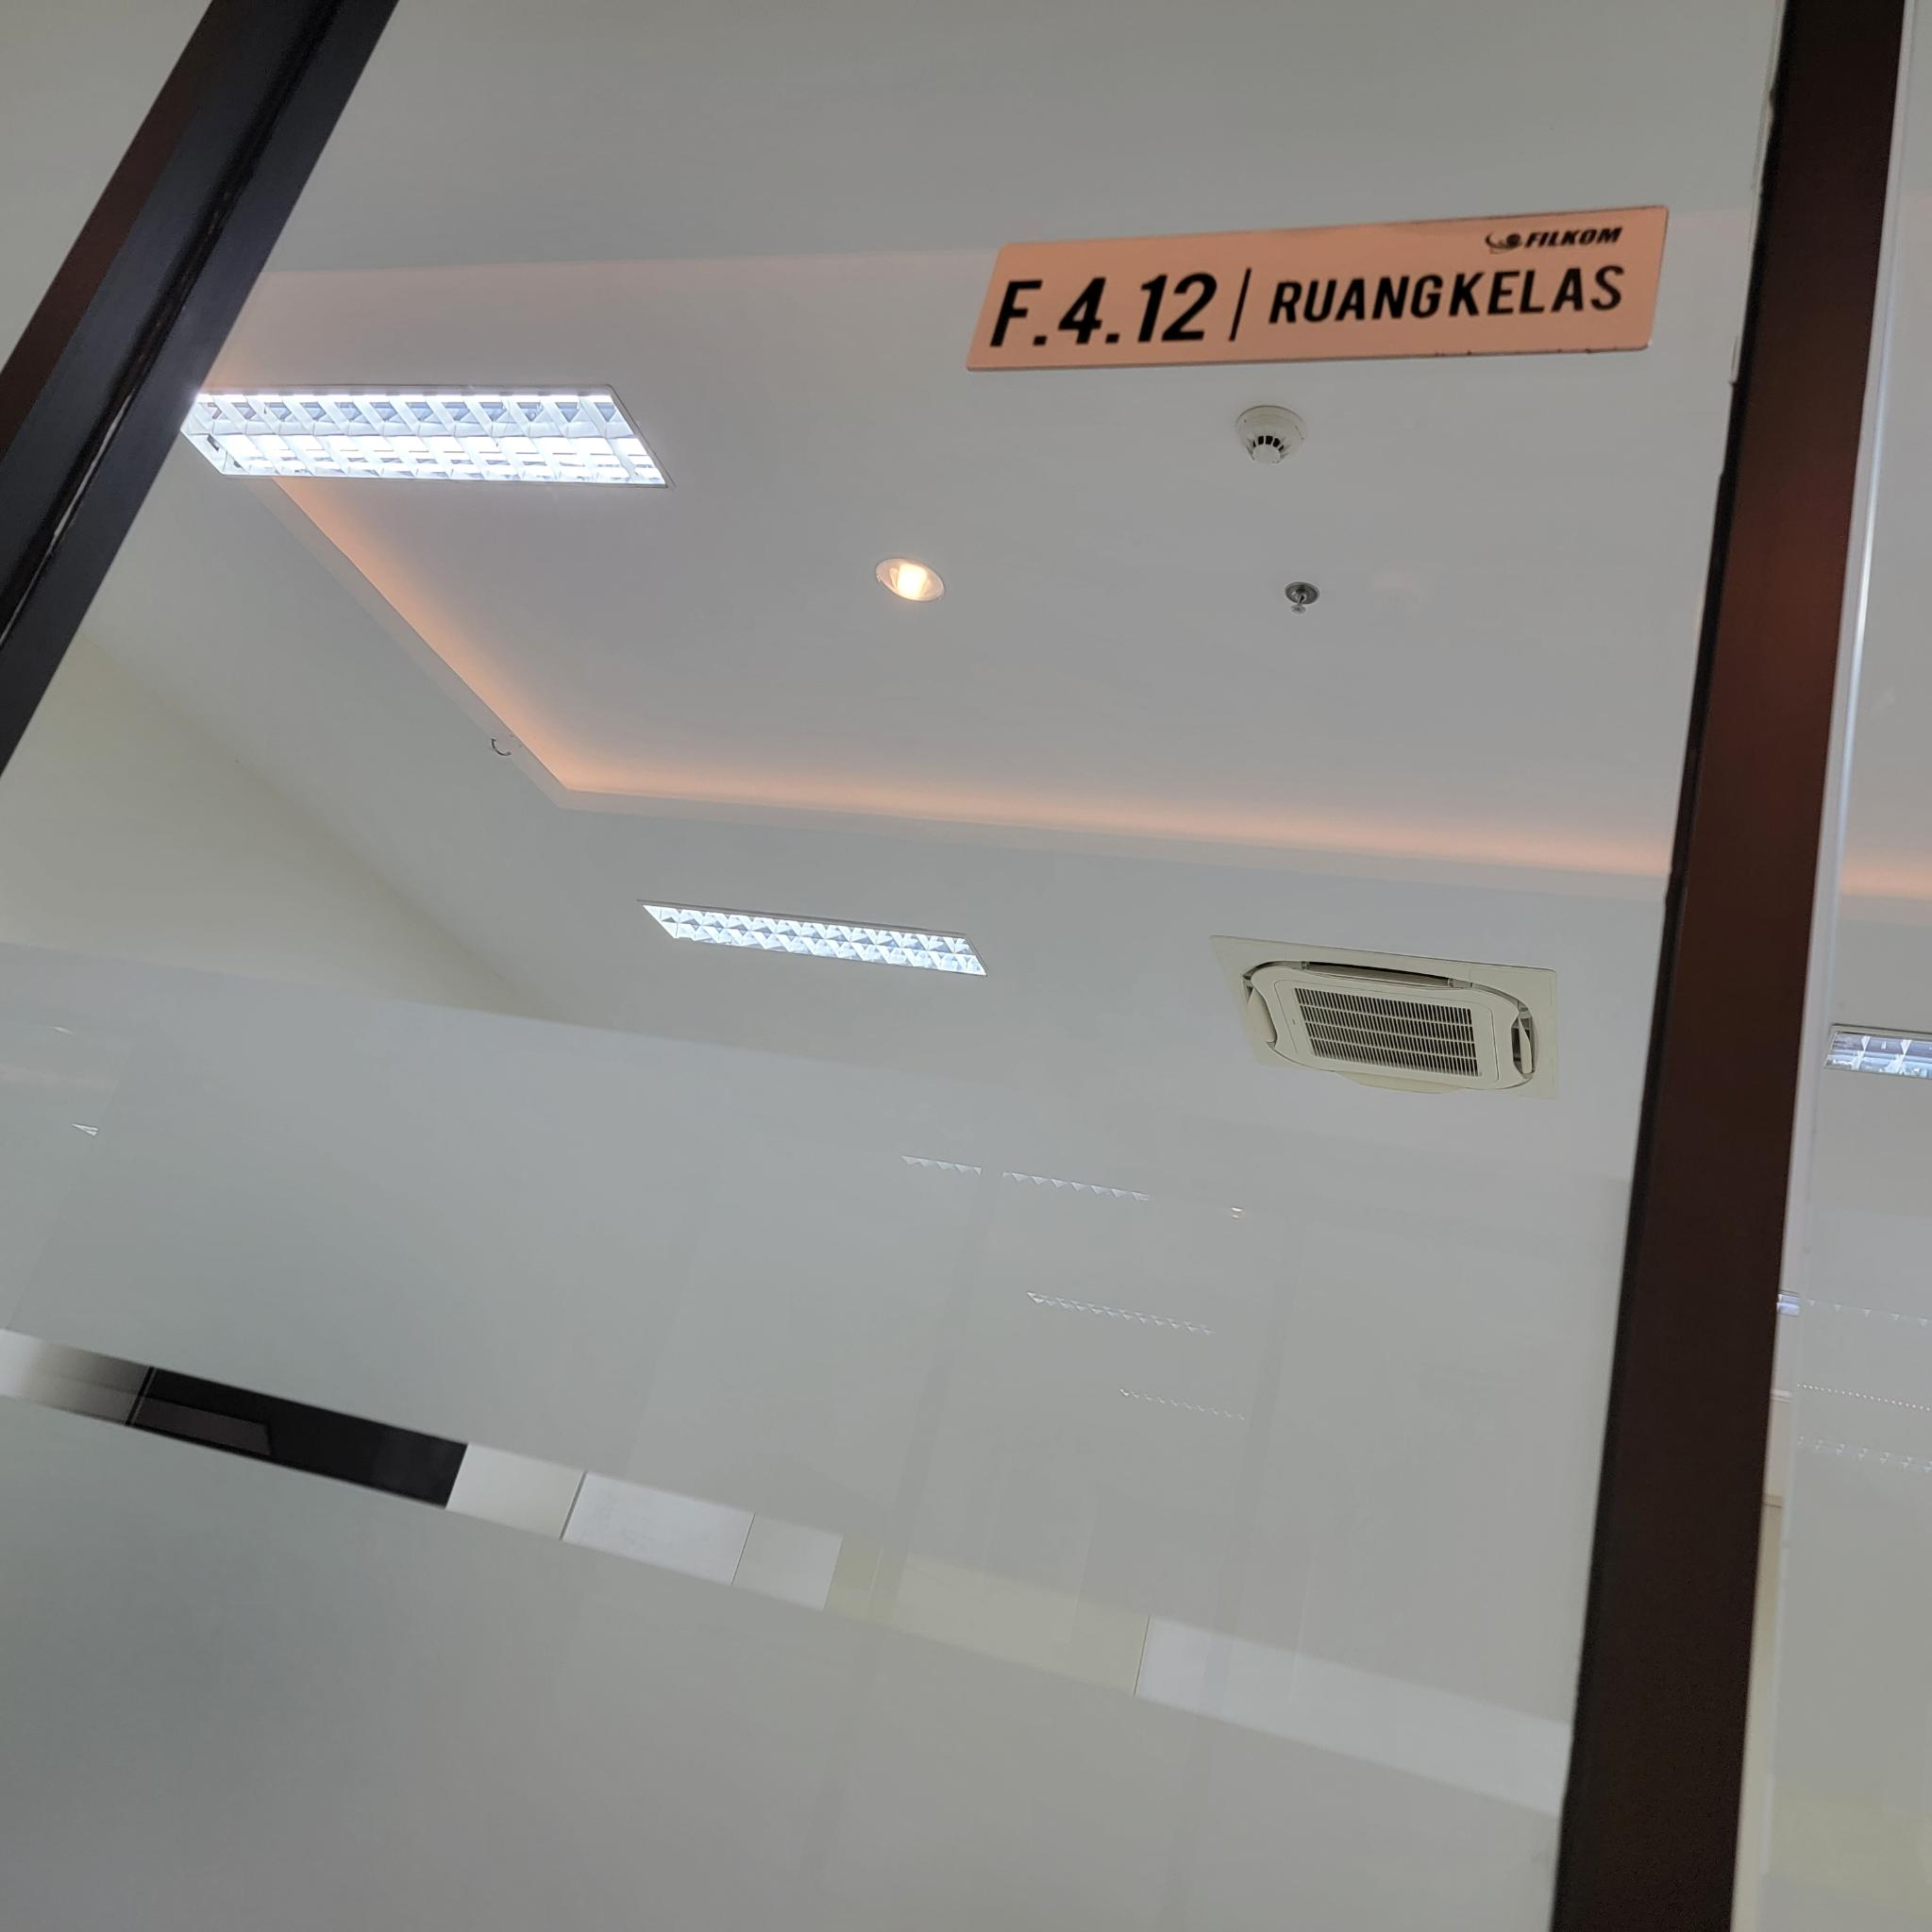plate: (968, 203, 1670, 373)
